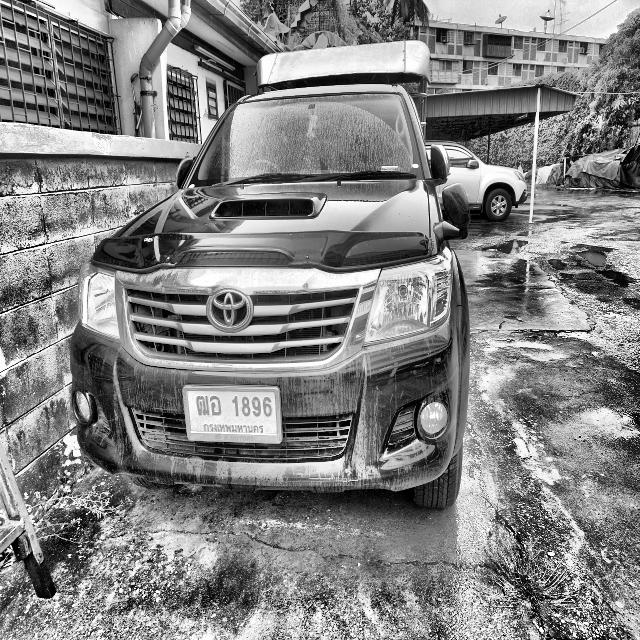license-plate: (182, 383, 283, 445)
